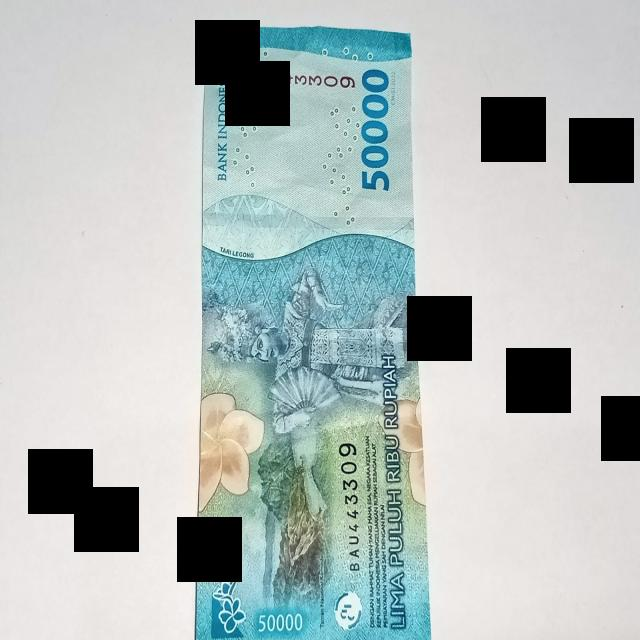lima puluh ribu rupiah: (196, 25, 430, 638)
